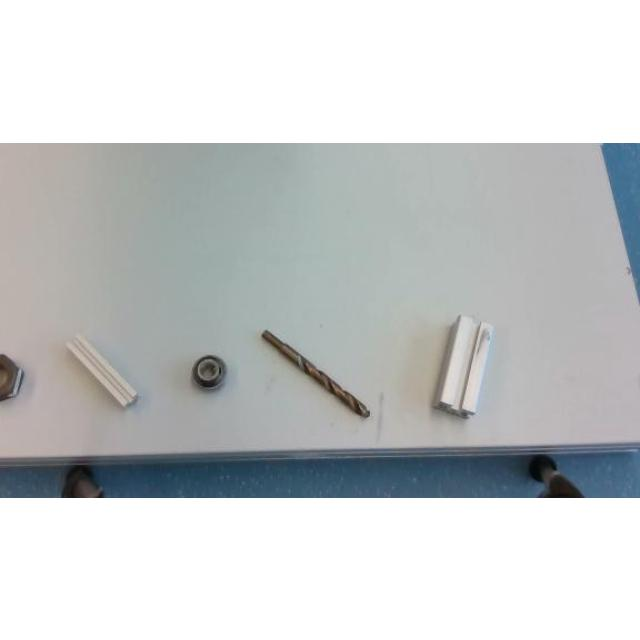Bearing2: (192, 354, 225, 388)
Drill: (262, 329, 371, 417)
F20_20_G: (66, 333, 138, 405)
M30: (1, 352, 23, 400)
S40_40_G: (431, 314, 495, 416)
